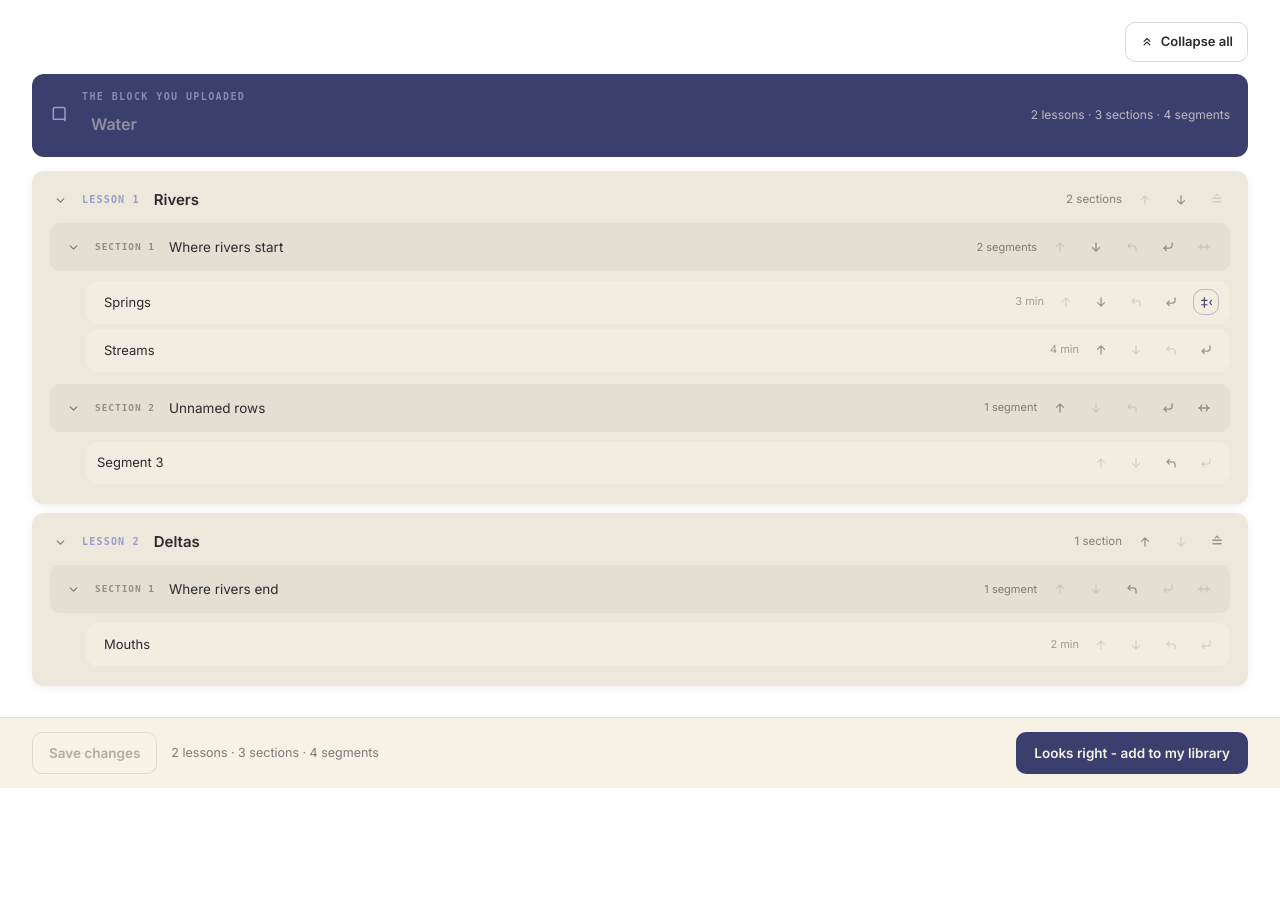
it: adding with unsaved changes › saves what is on screen first, then asks
Replace the text in the field named "Lesson 1 title" with "Rivers and streams": [603, 200] box [150,186,1056,213]
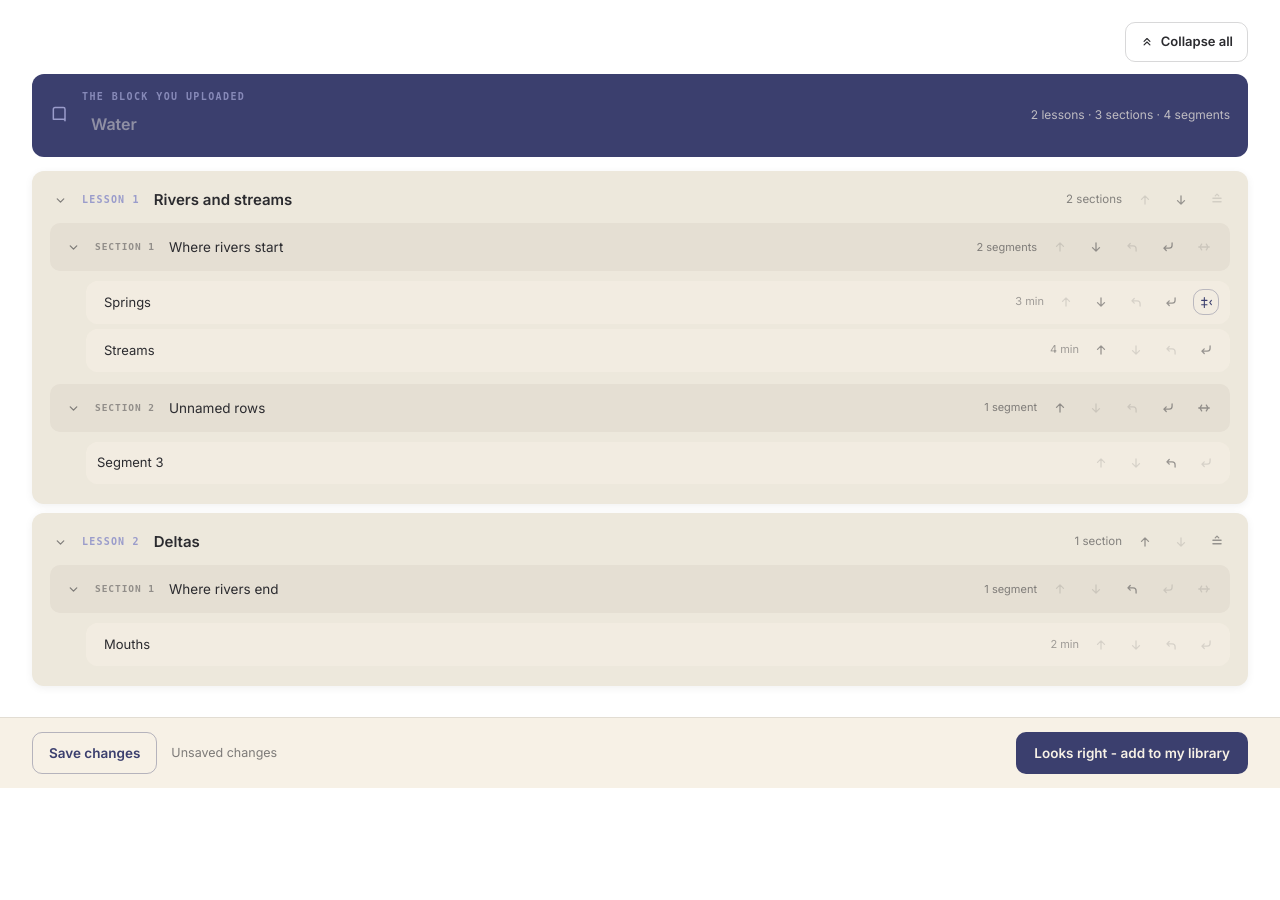
Click the button "Looks right - add to my library": [1132, 753] box [1016,732,1248,774]
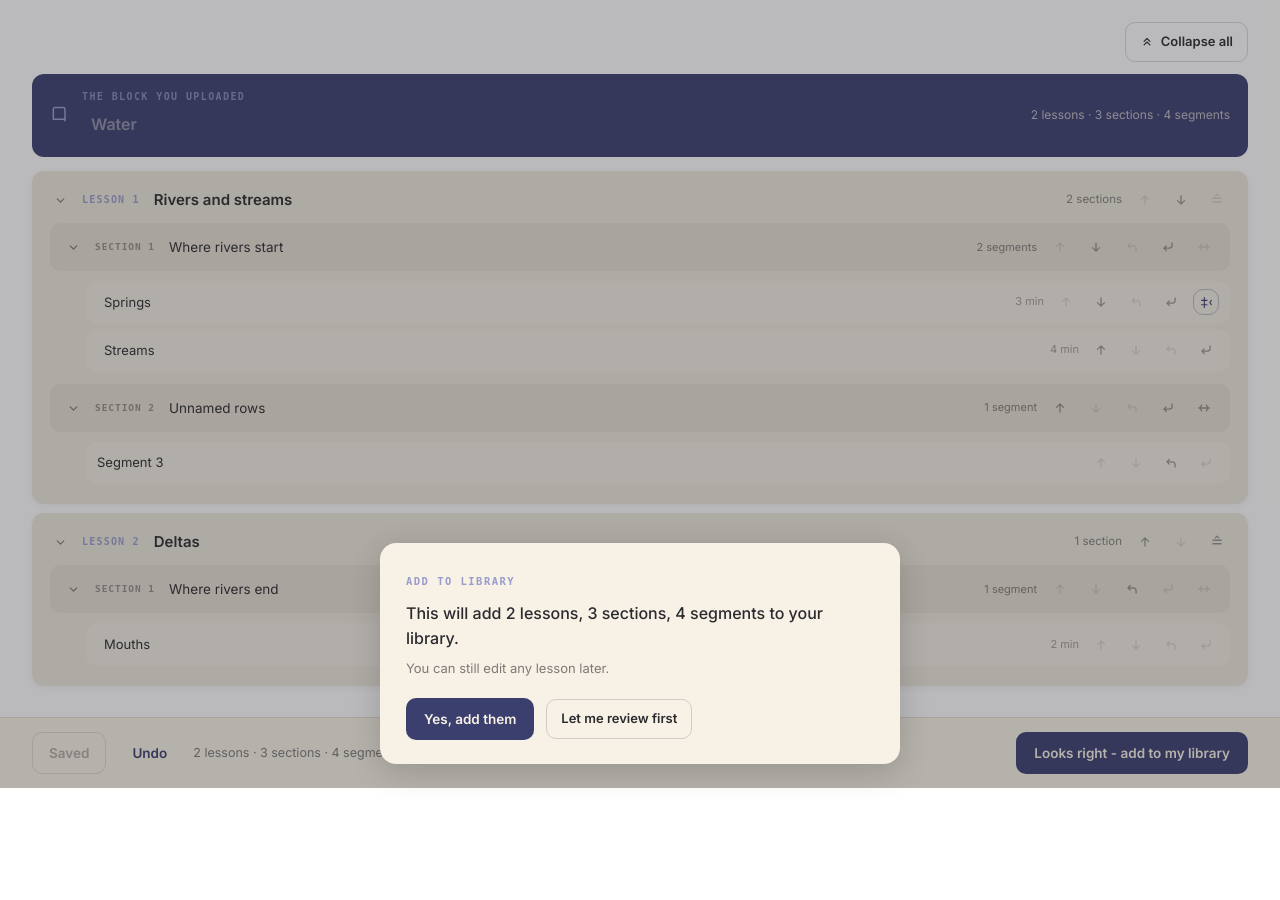
Check: the button "Yes, add them" is shown, box [406,698,534,740]
